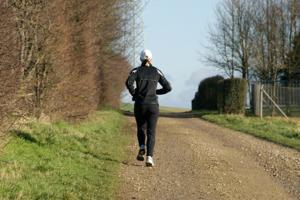person: (127, 49, 173, 168)
